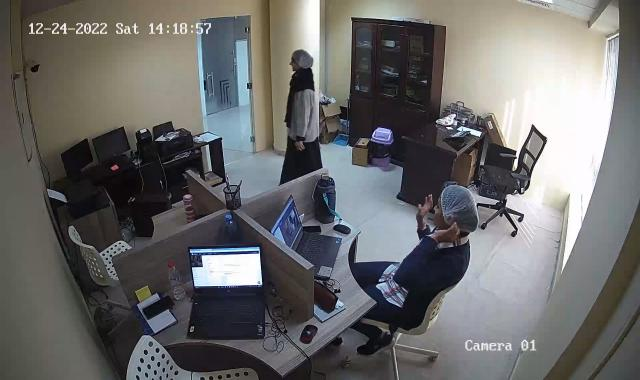hairnet: (439, 183, 480, 229), (289, 50, 312, 76)
